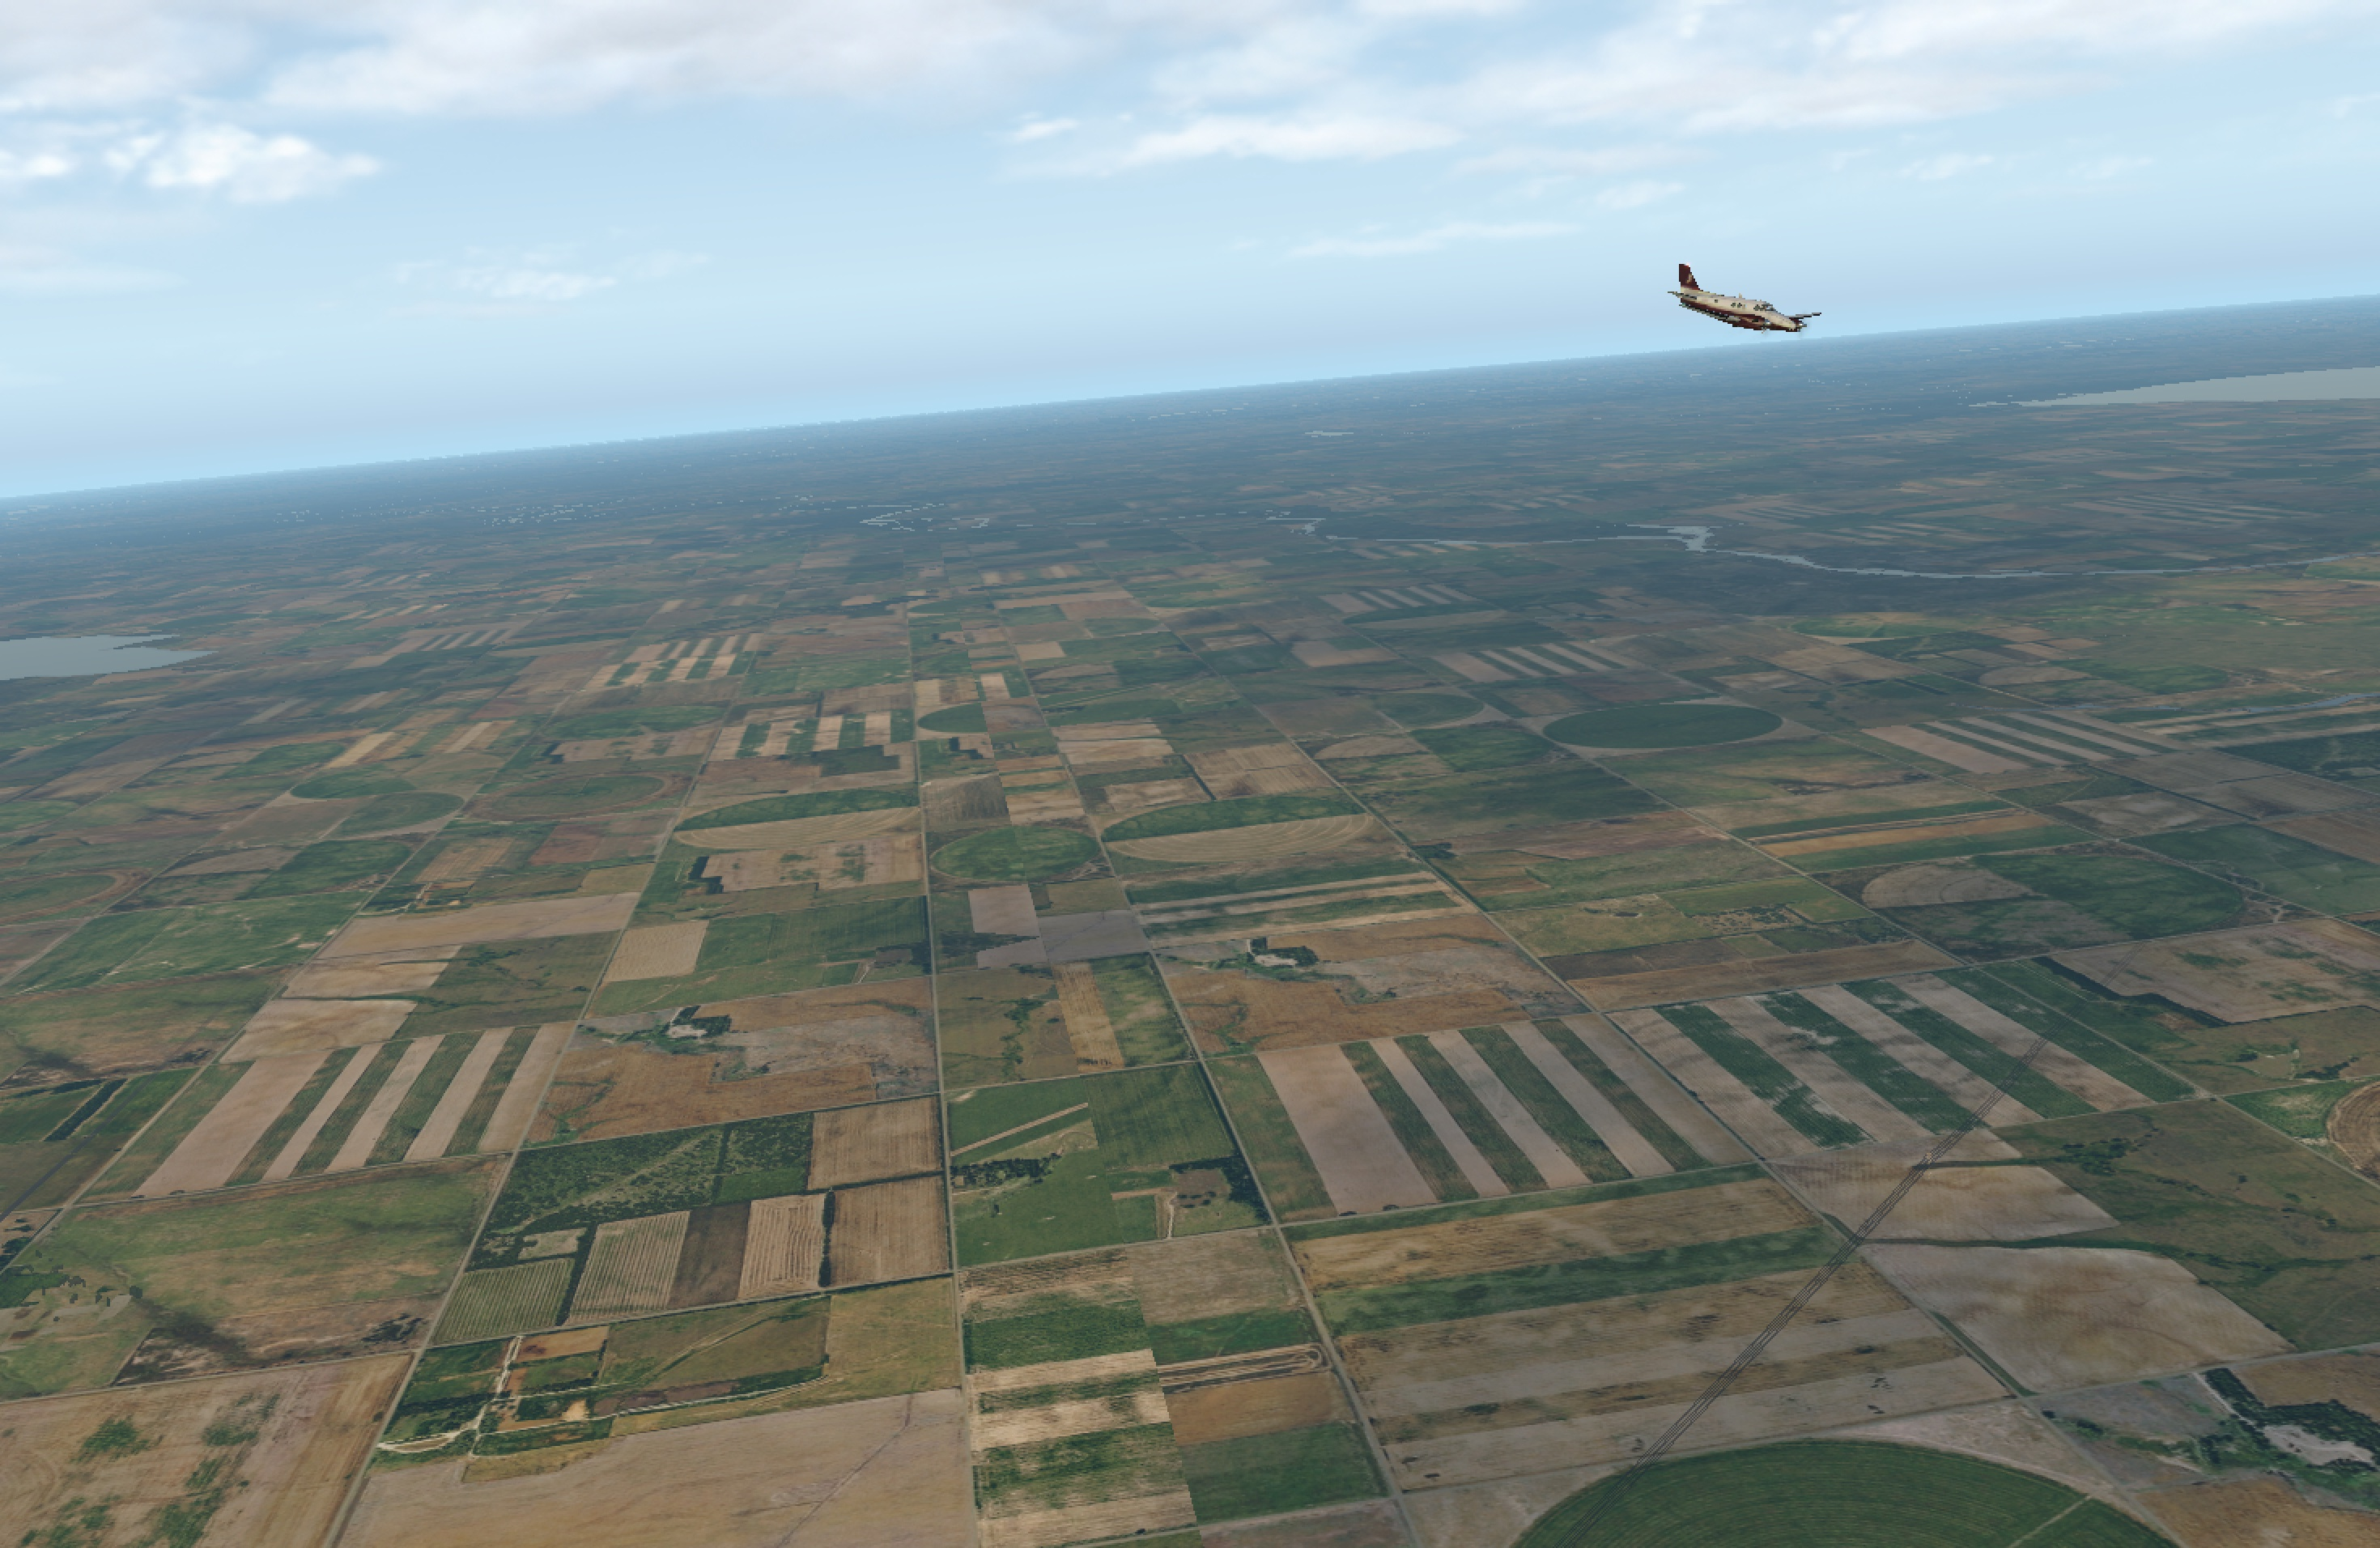aircraft: (1646, 285, 1860, 364)
